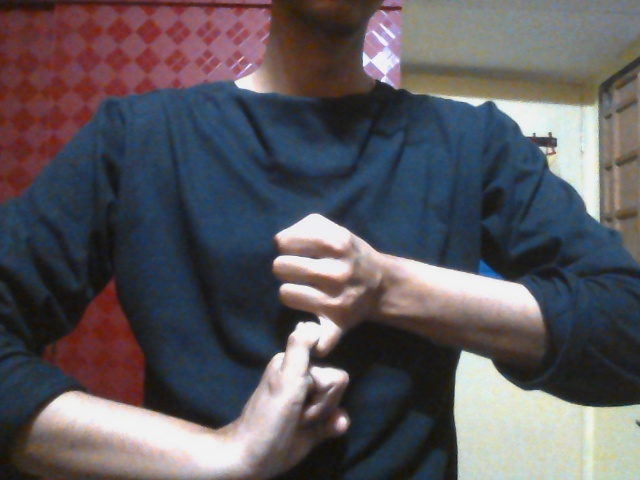S: (238, 214, 391, 480)
